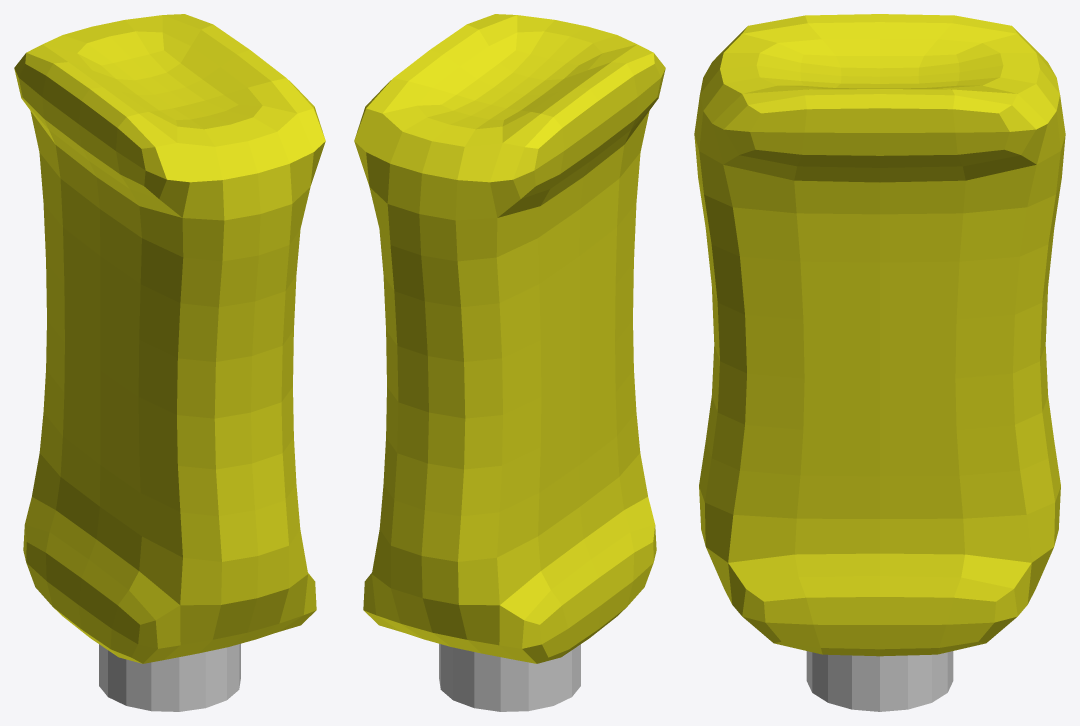
Rendered from ketchup.fbx.
3 views of the same model, side by side, from view 1: azimuth 30°, elevation 25°; view 2: azimuth 150°, elevation 25°; view 3: azimuth 270°, elevation 25° (orthographic). The views are drawn at different scales.
Parts seen in each view (by area): view 1: Cylinder.001; view 2: Cylinder.001; view 3: Cylinder.001.
Part boxes in pixels (box(x1,y1,x2,y2)): Cylinder.001: box(14, 14, 325, 711); Cylinder.001: box(354, 14, 665, 711); Cylinder.001: box(694, 14, 1065, 711).
Bounding box in the file's own units: 90.08 × 289 × 155.
